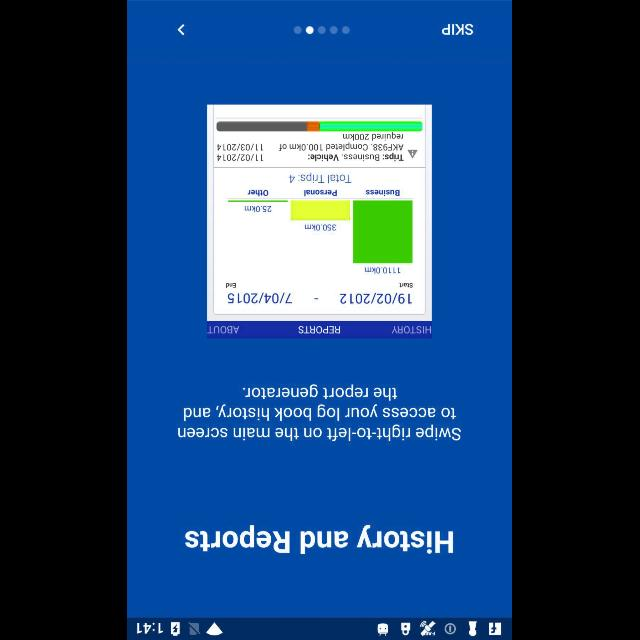icon: (178, 24, 186, 36)
image: (208, 105, 432, 339)
pageindicator: (294, 26, 351, 34)
text: (178, 383, 462, 441), (186, 524, 454, 554), (442, 23, 473, 35)
uppertaskbar: (128, 617, 512, 639)
